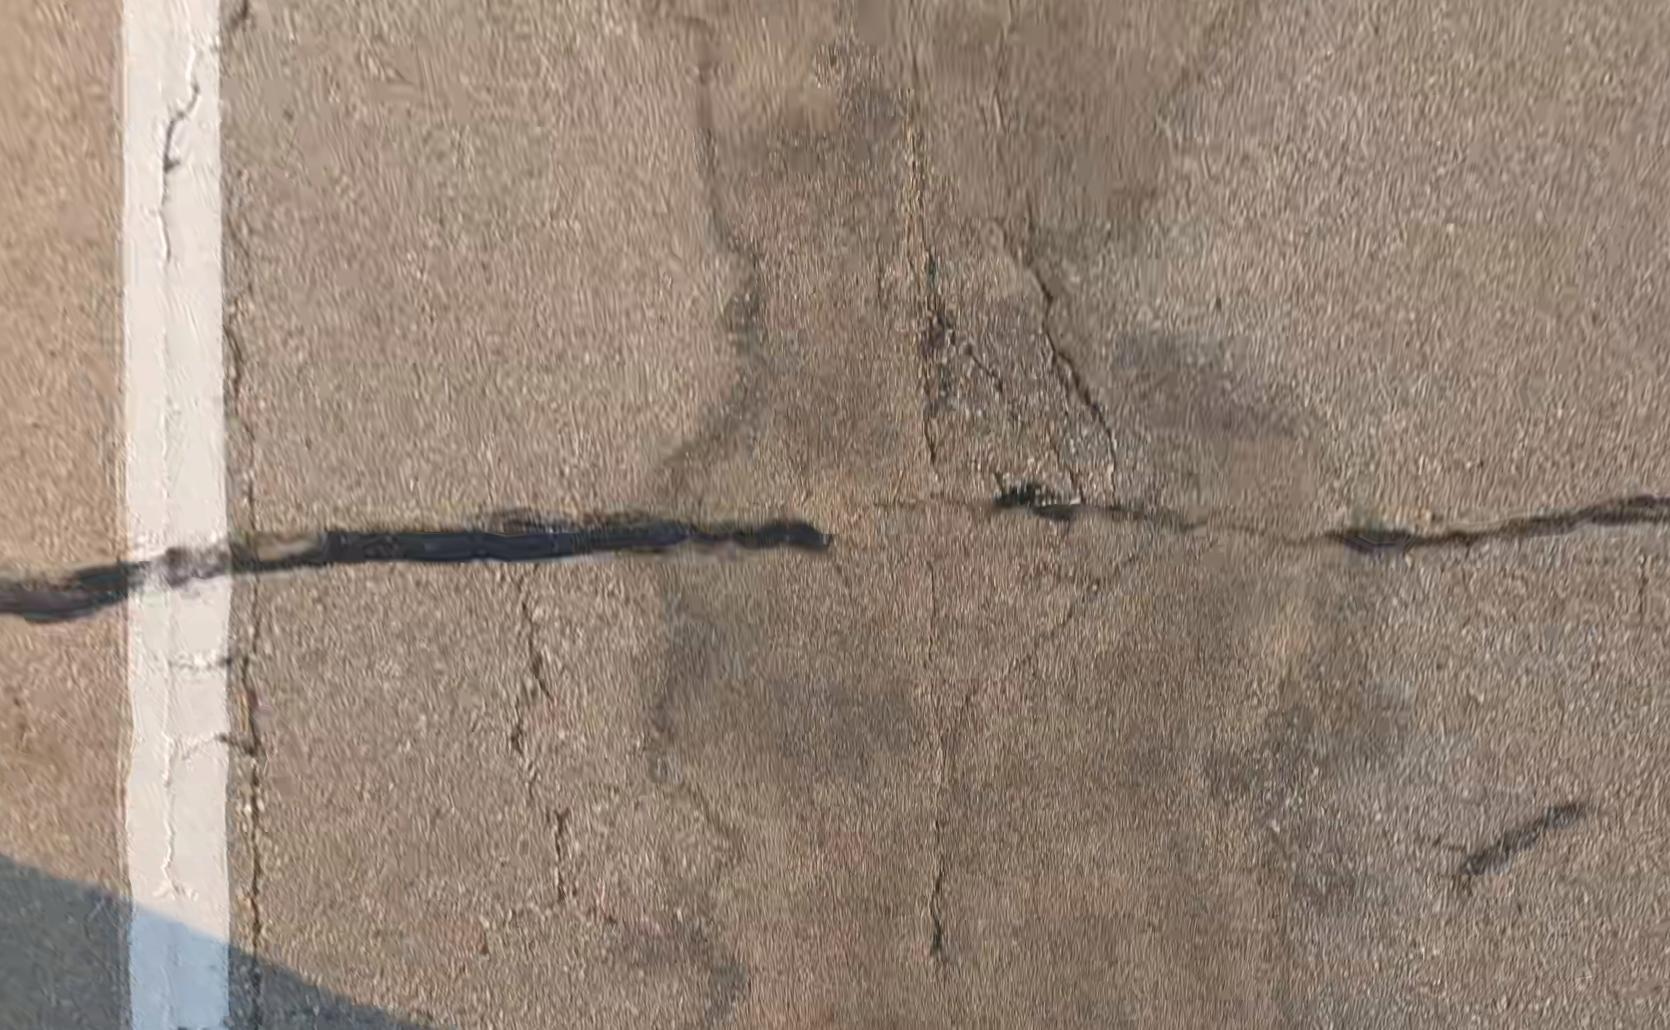pothole_patch_poor: (645, 1, 1357, 1026)
